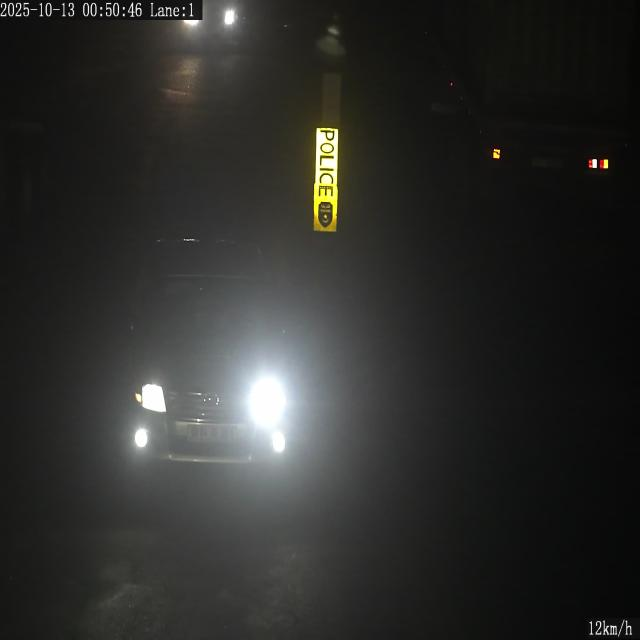BUS: (188, 424, 236, 442)
